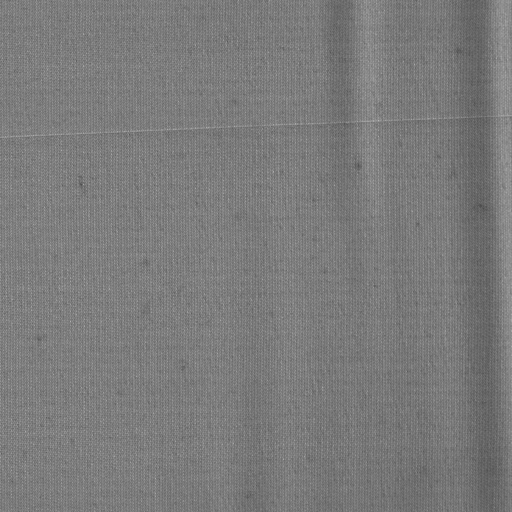defect: (1, 112, 512, 144)
